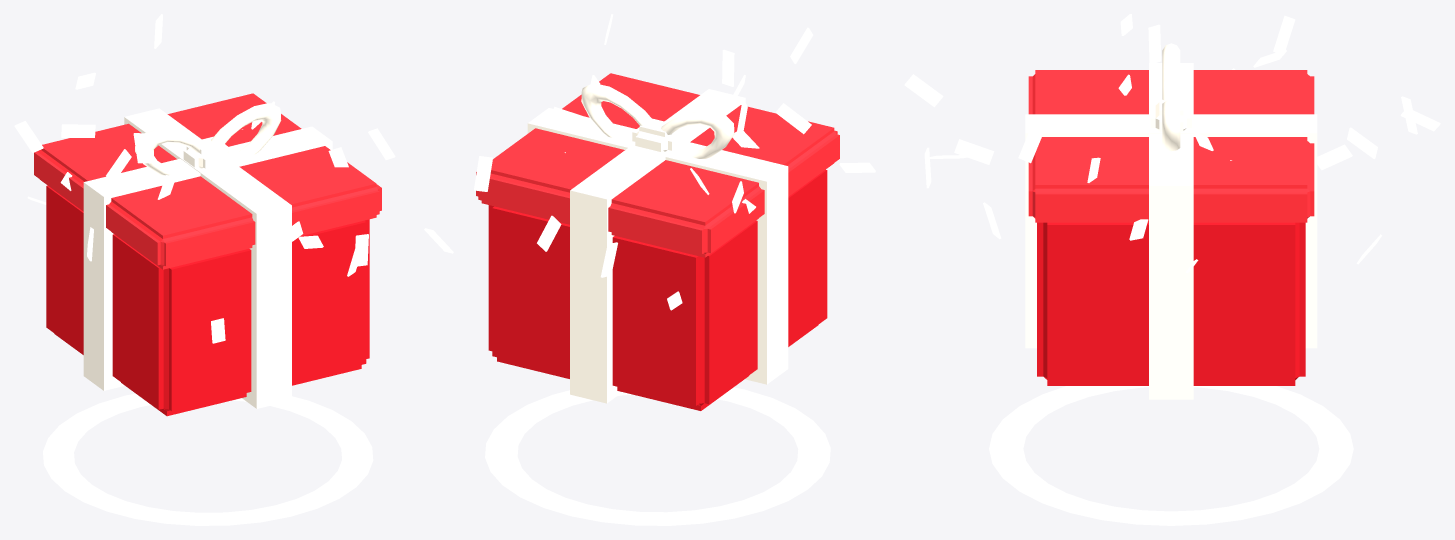
Rendered from item_box.glb.
The picture shows the model from 3 angles, left to right: view 1: azimuth 30°, elevation 25°; view 2: azimuth 150°, elevation 25°; view 3: azimuth 270°, elevation 25°; orthographic projection. The views are drawn at different scales.
Visible parts, largest first — view 1: Base, Lid, Burst, Confetti; view 2: Base, Lid, Burst, Confetti; view 3: Base, Lid, Burst, Confetti.
Part boxes in pixels (box(x1,y1,x2,y2)): Base: box(46, 185, 369, 416); Lid: box(34, 93, 381, 269); Burst: box(43, 393, 373, 525); Confetti: box(14, 14, 395, 343); Base: box(488, 169, 827, 410); Lid: box(476, 73, 839, 257); Burst: box(485, 387, 830, 525); Confetti: box(424, 14, 875, 310); Base: box(1025, 174, 1317, 399); Lid: box(1025, 43, 1317, 231); Burst: box(989, 386, 1353, 525); Confetti: box(904, 14, 1440, 273).
Size of the model in its own units: 2.12 by 2.46 by 3.12.
